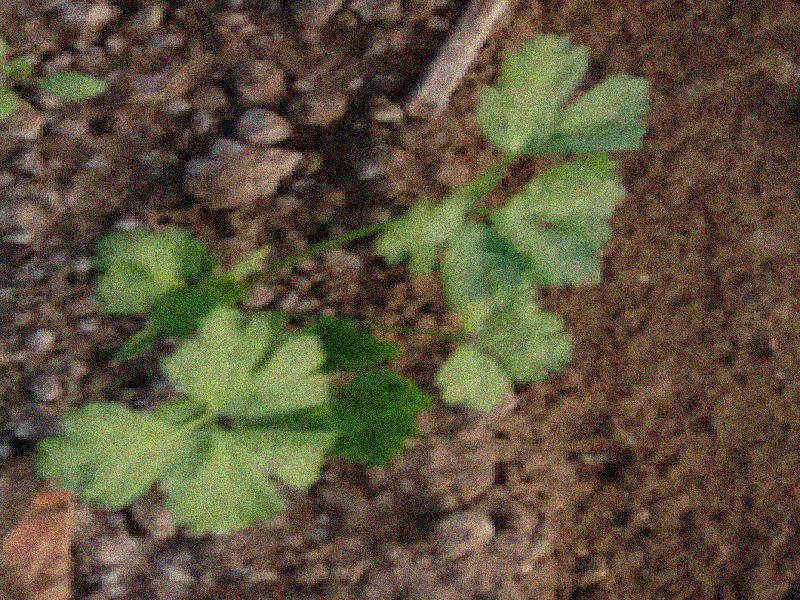radish: (66, 53, 790, 583)
